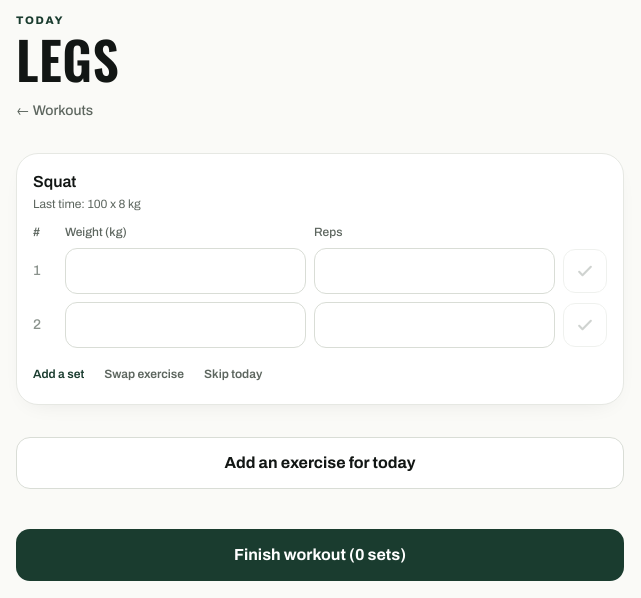
Scenario: logging a set › can be undone
Step 1. Type "100" into the number field named "Squat set 1 weight" → (186, 271), box x1=65 y1=248 x2=306 y2=294
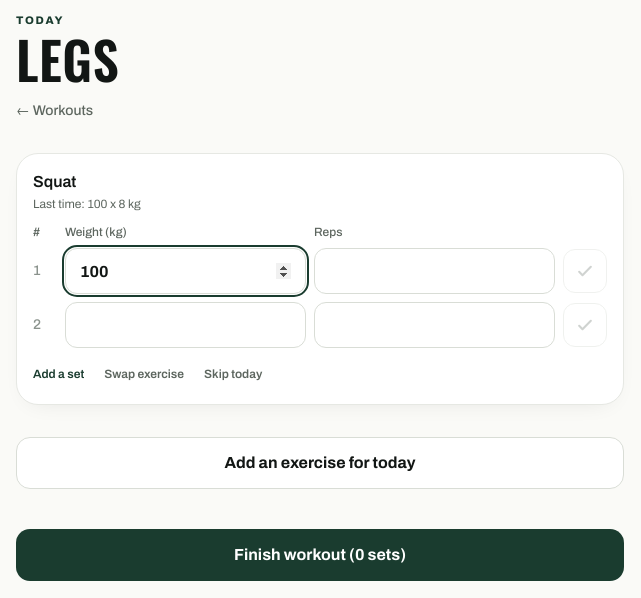
Step 2. Type "8" into the number field named "Squat set 1 reps" → (434, 271), box x1=314 y1=248 x2=555 y2=294
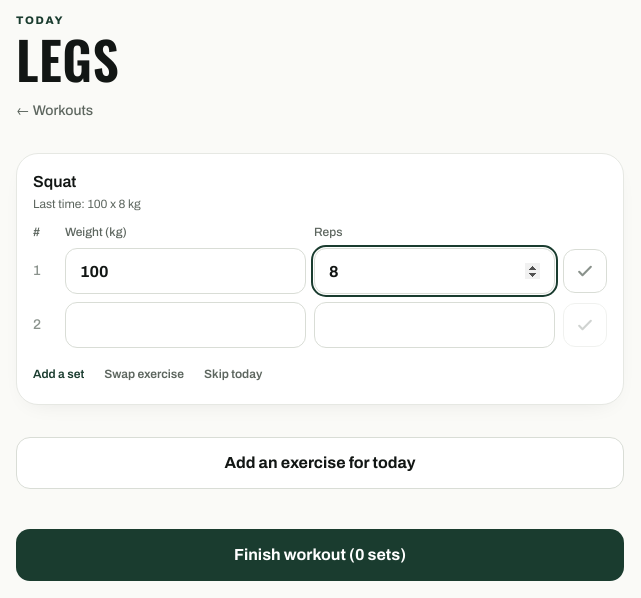
Step 3. Click the button named "Log Squat set 1" → (585, 271), box x1=563 y1=249 x2=607 y2=293
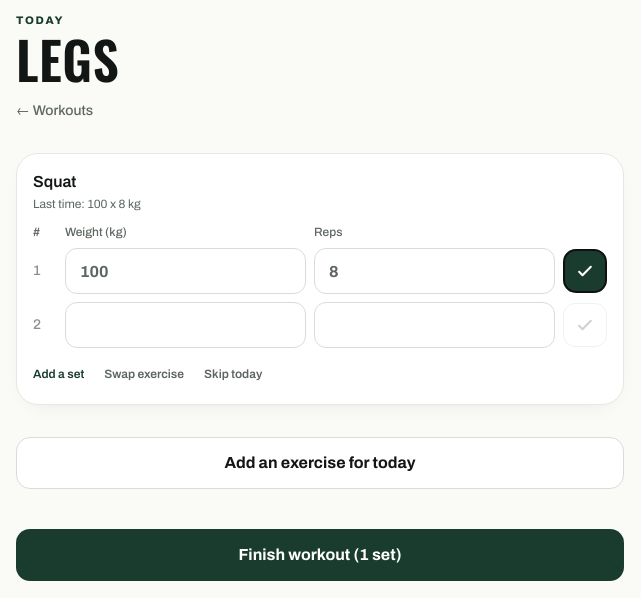
Step 4. Click the button named "Undo Squat set 1" → (585, 271), box x1=563 y1=249 x2=607 y2=293
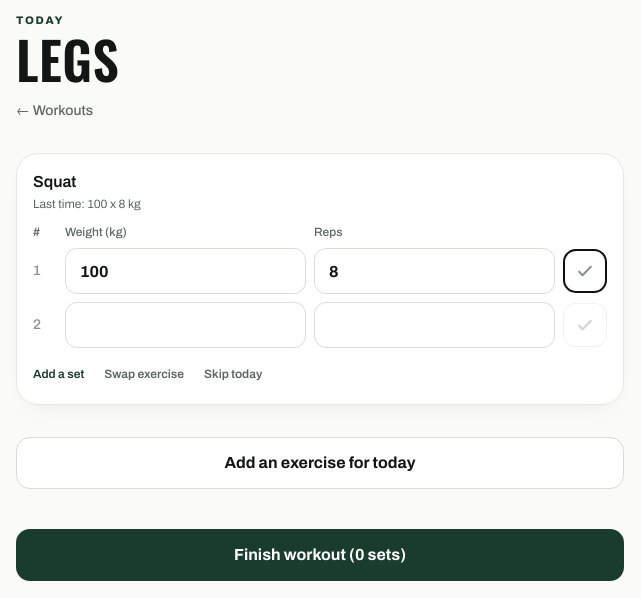
Expected: the button named "Log Squat set 1" is shown, x1=563 y1=249 x2=607 y2=293
